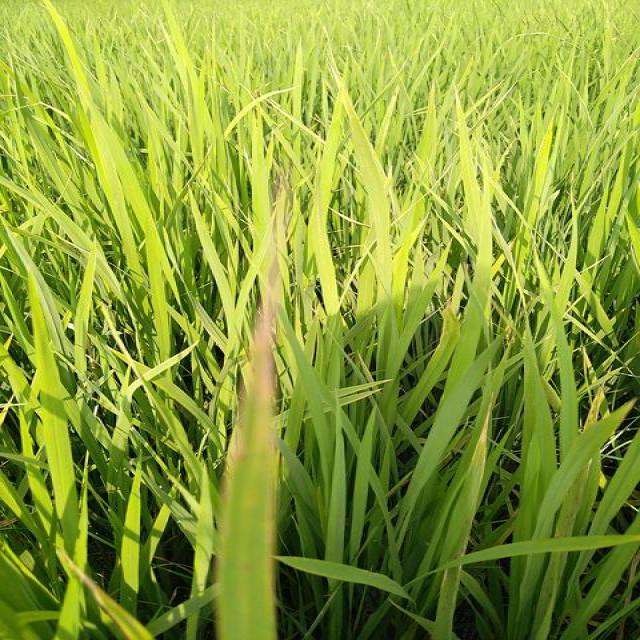Leaf Blight: (216, 212, 289, 639)
